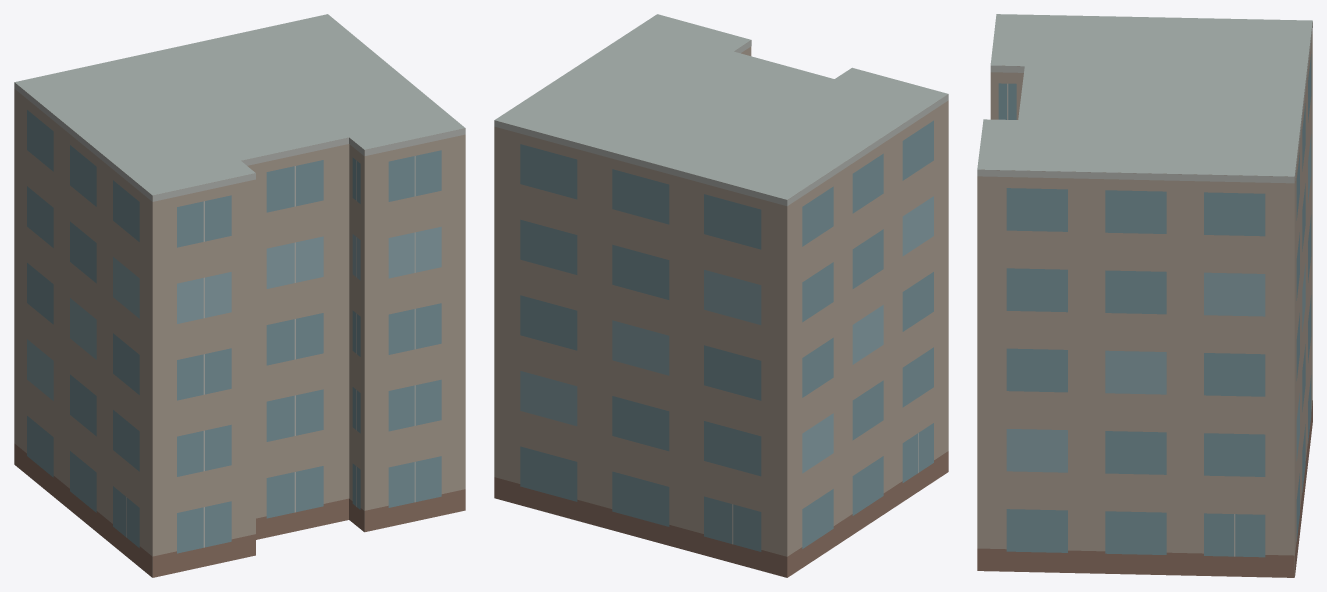
Rendered from survey-upis-32652731.glb.
3 renders of one model, left to right at view 1: azimuth 30°, elevation 25°; view 2: azimuth 150°, elevation 25°; view 3: azimuth 270°, elevation 25°, orthographic. The views are drawn at different scales.
Parts seen in each view (by area): view 1: survey-upis-32652731.tmp; view 2: survey-upis-32652731.tmp; view 3: survey-upis-32652731.tmp.
Boxes of the visible parts, x1,y1,x2,y2 form: survey-upis-32652731.tmp: [14, 14, 465, 577]; survey-upis-32652731.tmp: [494, 14, 948, 577]; survey-upis-32652731.tmp: [977, 14, 1312, 577].
Bounding box in the file's own units: 12.61 × 14.5 × 11.
